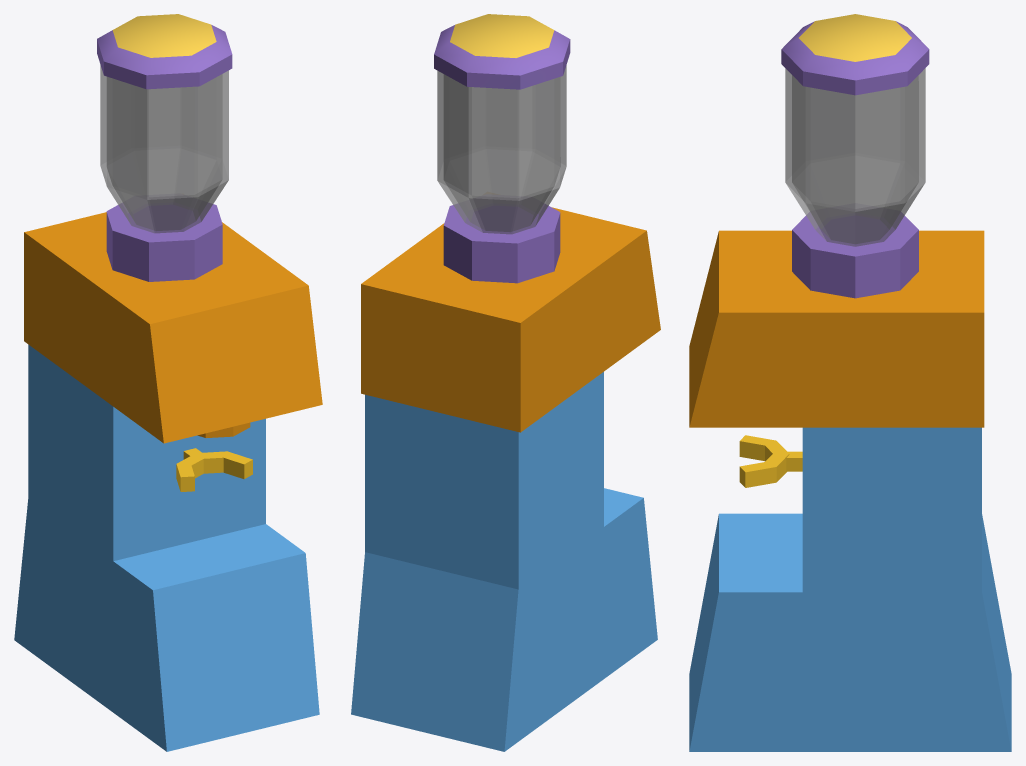
The model's file is Grinder lv1.fbx.
3 views of the same model, side by side, from view 1: azimuth 30°, elevation 25°; view 2: azimuth 150°, elevation 25°; view 3: azimuth 270°, elevation 25° (orthographic). The views are drawn at different scales.
Visible parts, largest first — view 1: Grinder__lv1; view 2: Grinder__lv1; view 3: Grinder__lv1.
Part boxes in pixels (left/top/right/bottom): Grinder__lv1: left=14, top=14, right=322, bottom=751; Grinder__lv1: left=351, top=14, right=660, bottom=751; Grinder__lv1: left=689, top=14, right=1011, bottom=751.
Size of the model in its own units: 39.58 by 152 by 65.89.
